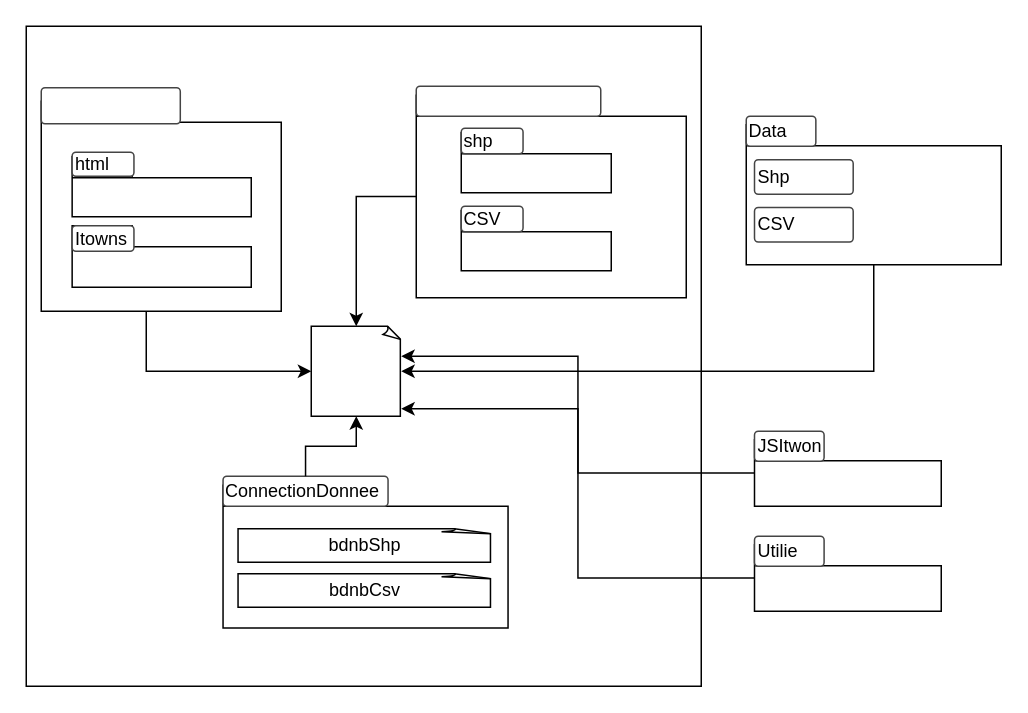
The diagram is 1028 pixels wide and 713 high, and some of its shapes have lost their labels. Here are the shapes that lost their labels. From the top down, the box of each, then its label:
(40, 86, 180, 124): Affichage
(415, 85, 601, 116): RécupérationDonnee
(310, 325, 401, 416): main
